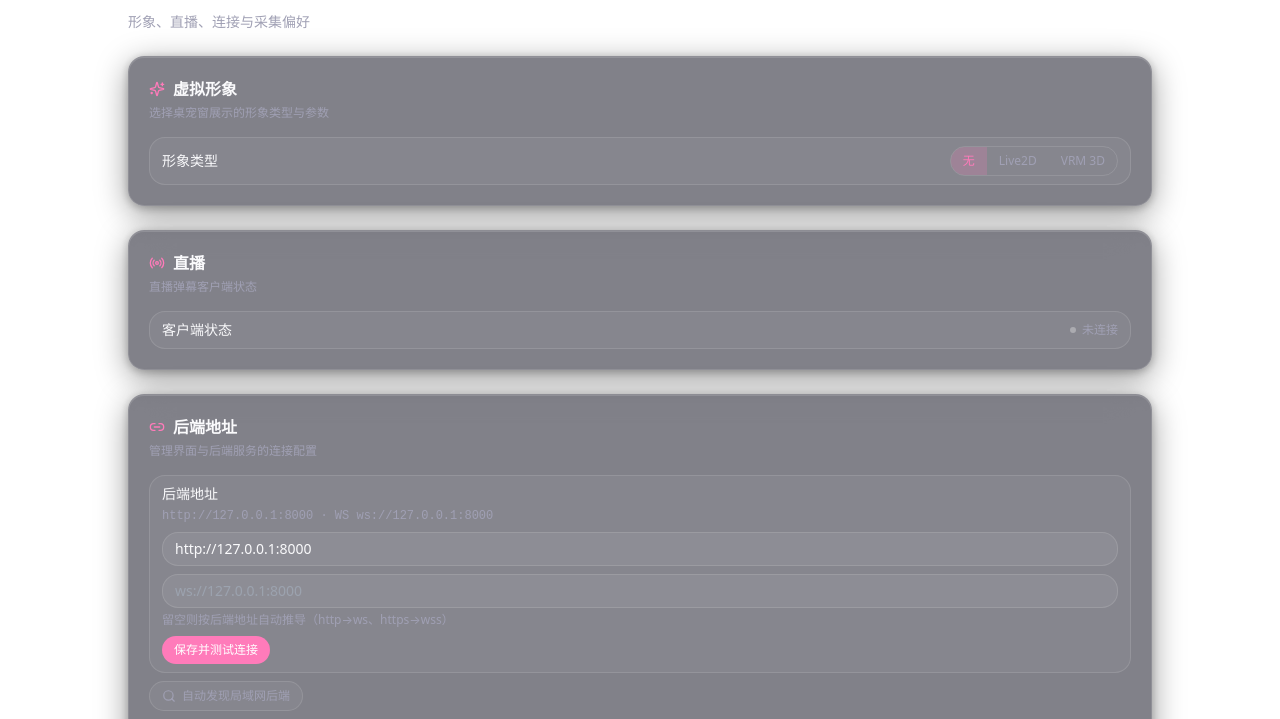
Test: SettingsPage 五区块 › 后端地址保存：探测通过后写入 localStorage 并提示生效
The image size is (1280, 719).
Type "http://192.168.1.100:8100" into the field named "后端地址" at (640, 549), box [162, 532, 1118, 566]
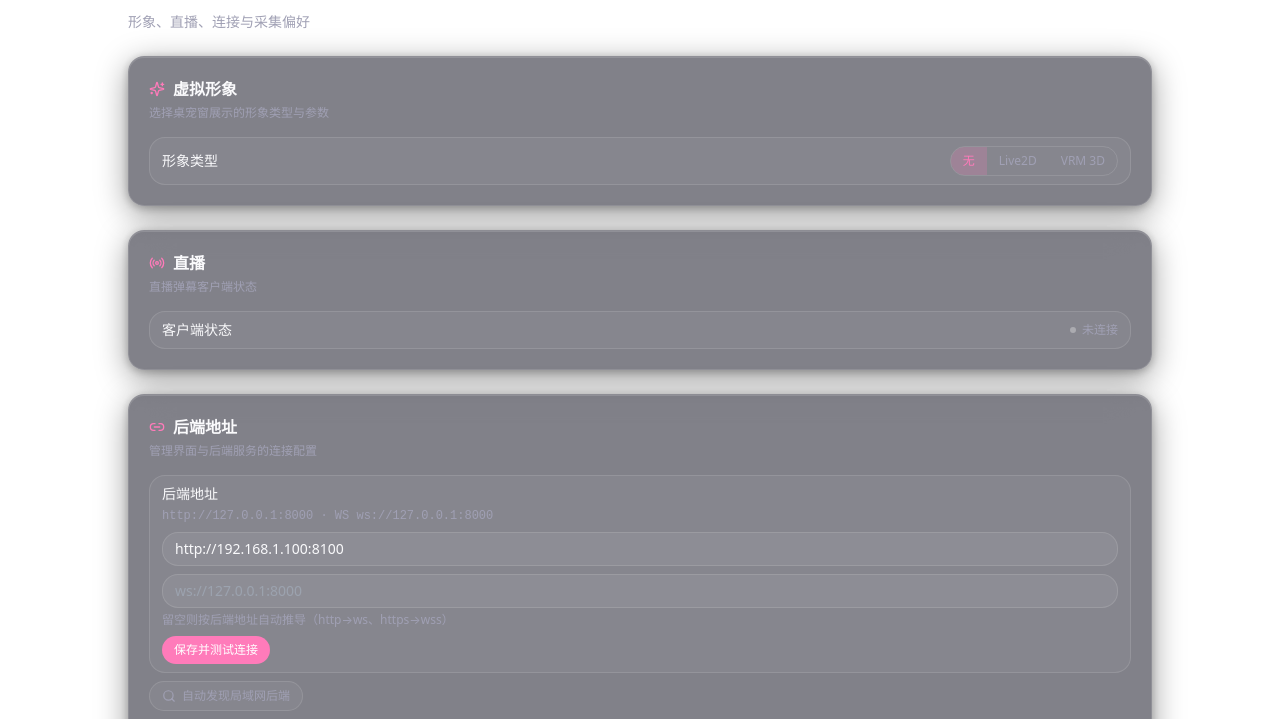
Click the button "保存并测试连接" at (216, 650), box [162, 636, 270, 664]
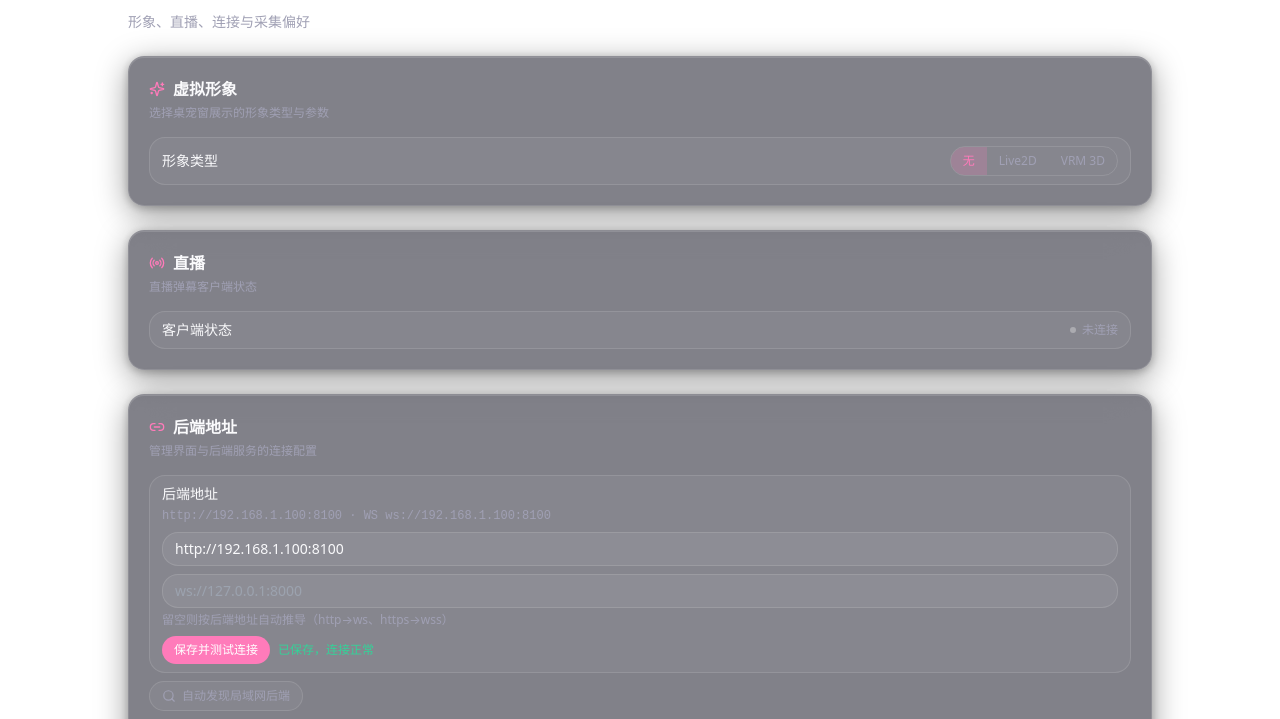
Expected: the text "已保存，连接正常" is shown, [278, 642, 374, 658]
